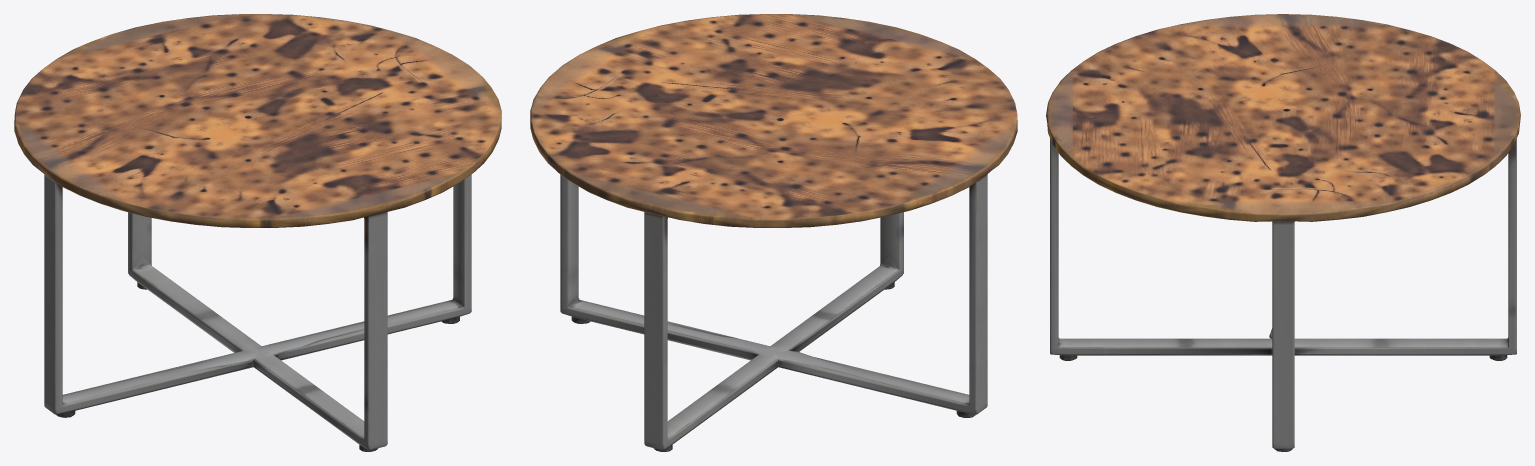
Rendered from Rustic_Coffee_Table_17InchesTall_0208182633_texture.glb.
3 renders of one model, left to right at view 1: azimuth 30°, elevation 25°; view 2: azimuth 150°, elevation 25°; view 3: azimuth 270°, elevation 25°, orthographic. The views are drawn at different scales.
Parts seen in each view (by area): view 1: Mesh_0; view 2: Mesh_0; view 3: Mesh_0.
Part boxes in pixels (<box>): Mesh_0: <box>14,14,501,451</box>; Mesh_0: <box>530,14,1017,451</box>; Mesh_0: <box>1046,14,1520,451</box>.
Size of the model in its own units: 0.7647 by 0.4318 by 0.7647.
1 material, 1 textured.
